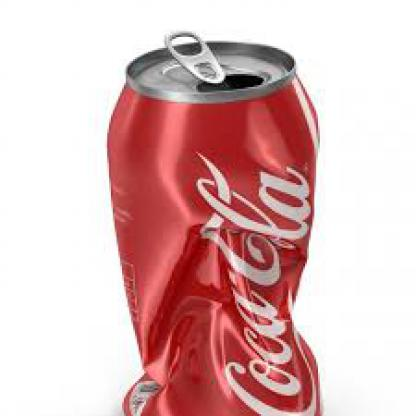METAL: (105, 30, 318, 414)
